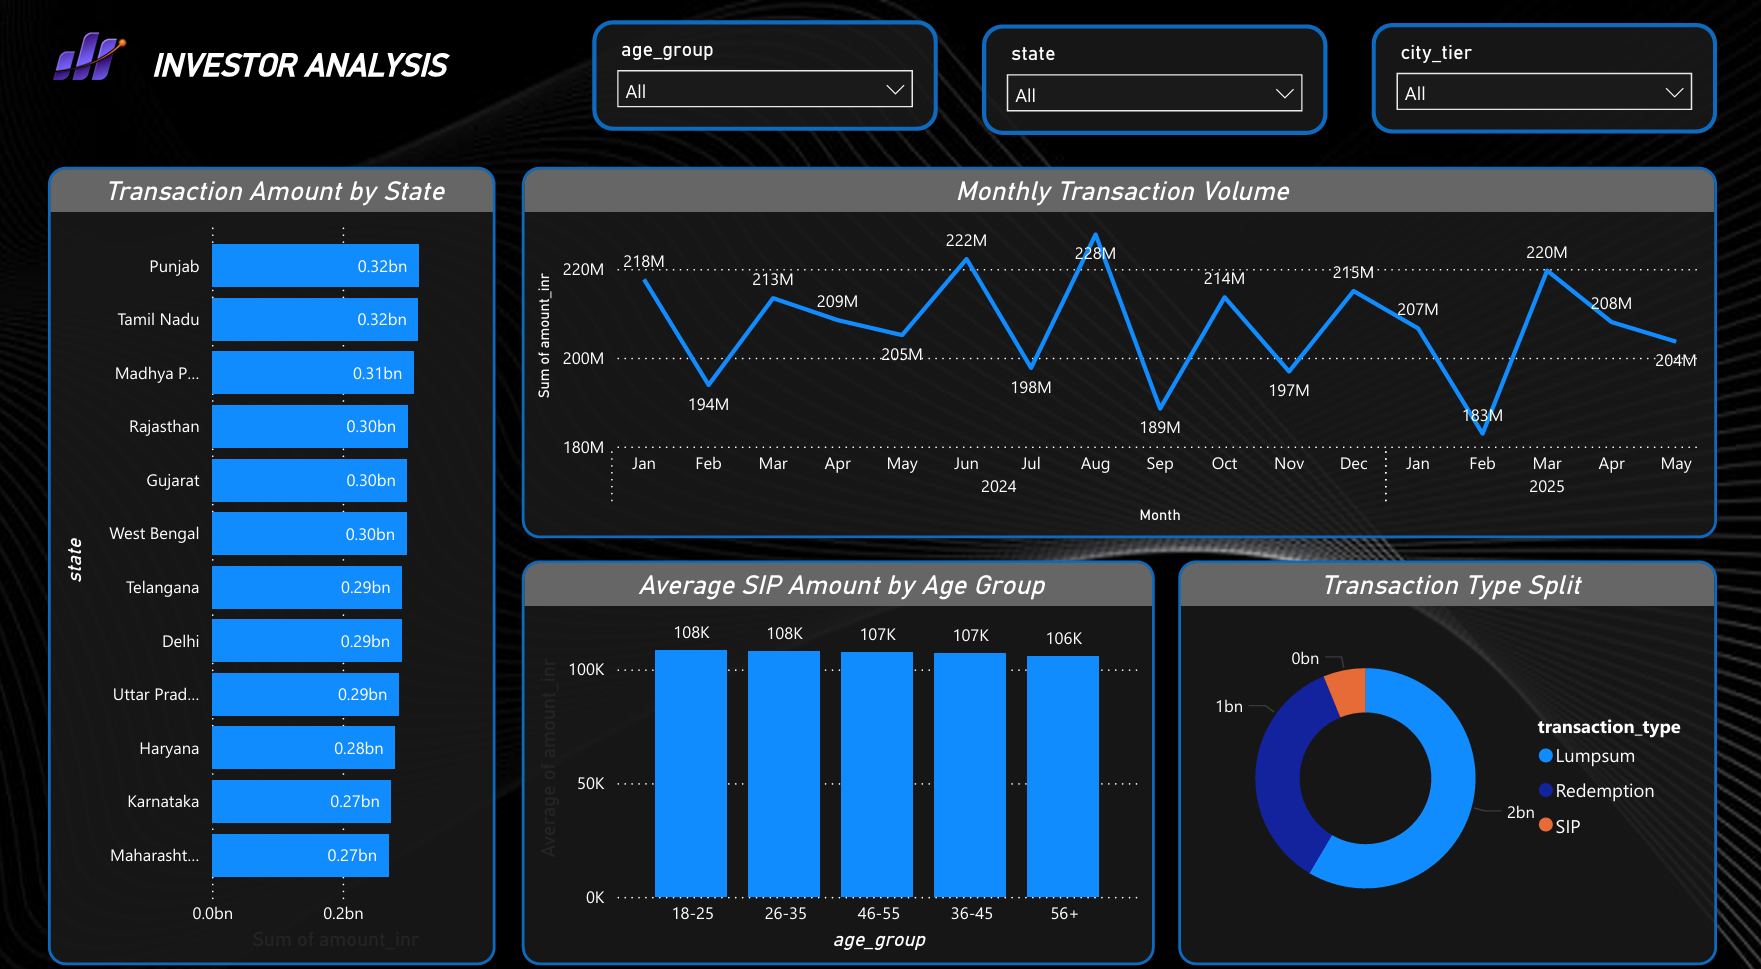

This screenshot's page, from the dashboard's own definition file:
{"tool":"powerbi","page":{"name":"Investor Analytics","canvas":[1280,720],"ordinal":2},"visuals":[{"type":"image","box":[0,1.4,1280,719.2],"z":0},{"type":"clusteredBarChart","title":"Transaction Amount by State","fields":{"Category":["clean_transactions.state"],"Y":["Sum(clean_transactions.amount_inr)"]},"box":[36.5,122,323.9,577.6],"z":1000},{"type":"donutChart","title":"Transaction Type Split","fields":{"Category":["clean_transactions.transaction_type"],"Y":["Sum(clean_transactions.amount_inr)"]},"box":[853.8,406.6,389.7,293],"z":2000},{"type":"clusteredColumnChart","title":"Average SIP Amount by Age Group","fields":{"Category":["clean_transactions.age_group"],"Y":["Avg(clean_transactions.amount_inr)"]},"box":[378.5,406.6,458.4,293],"z":3000},{"type":"lineChart","title":"Monthly Transaction Volume","fields":{"Y":["Sum(clean_transactions.amount_inr)"],"Category":["DateTable.Year","DateTable.Month"]},"box":[378.5,122,865,269.2],"z":4000},{"type":"slicer","fields":{"Values":["clean_transactions.age_group"]},"box":[430.4,16.4,250,80],"z":5000},{"type":"slicer","fields":{"Values":["clean_transactions.city_tier"]},"box":[994,17.8,249.6,79.9],"z":6000},{"type":"slicer","fields":{"Values":["clean_transactions.state"]},"box":[712.5,19.2,249.6,79.9],"z":7000},{"type":"textbox","title":"INVESTOR ANALYSIS","box":[56.1,35,322.5,25.2],"z":8000},{"type":"image","box":[0,9.8,130.4,64.5],"z":9000}]}

Visuals, with their boxes in screenshot pixels (x1, y1, x2, y2), scaled from the page's 1280x720 canvas onto the 1761x969 screenshot:
image: <box>0,2,1760,968</box>
"Transaction Amount by State" clusteredBarChart: <box>50,164,496,942</box>
"Transaction Type Split" donutChart: <box>1175,547,1711,942</box>
"Average SIP Amount by Age Group" clusteredColumnChart: <box>521,547,1151,942</box>
"Monthly Transaction Volume" lineChart: <box>521,164,1711,526</box>
slicer - clean_transactions.age_group: <box>592,22,936,130</box>
slicer - clean_transactions.city_tier: <box>1368,24,1711,131</box>
slicer - clean_transactions.state: <box>980,26,1324,133</box>
"INVESTOR ANALYSIS" textbox: <box>77,47,521,81</box>
image: <box>0,13,179,100</box>
